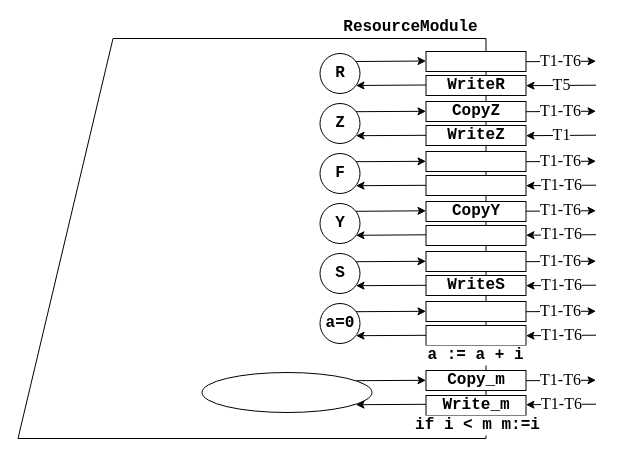
This 621x456 diagram has some shape labels left out. Each missing label, with the box of its shape:
Copy_a: (425, 300, 526, 322)
CopyF: (425, 150, 526, 172)
CopyR: (425, 50, 526, 72)
CopyS: (425, 250, 526, 272)
m= Integer'Last: (201, 372, 372, 412)
Write_a: (425, 324, 526, 346)
WriteF: (425, 174, 526, 196)
WriteY: (425, 224, 526, 246)
